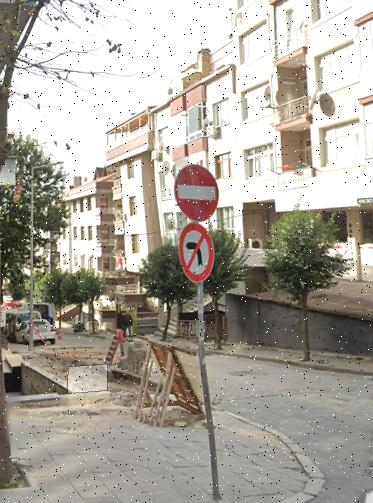leftturnsareforbidden: (179, 222, 216, 283)
